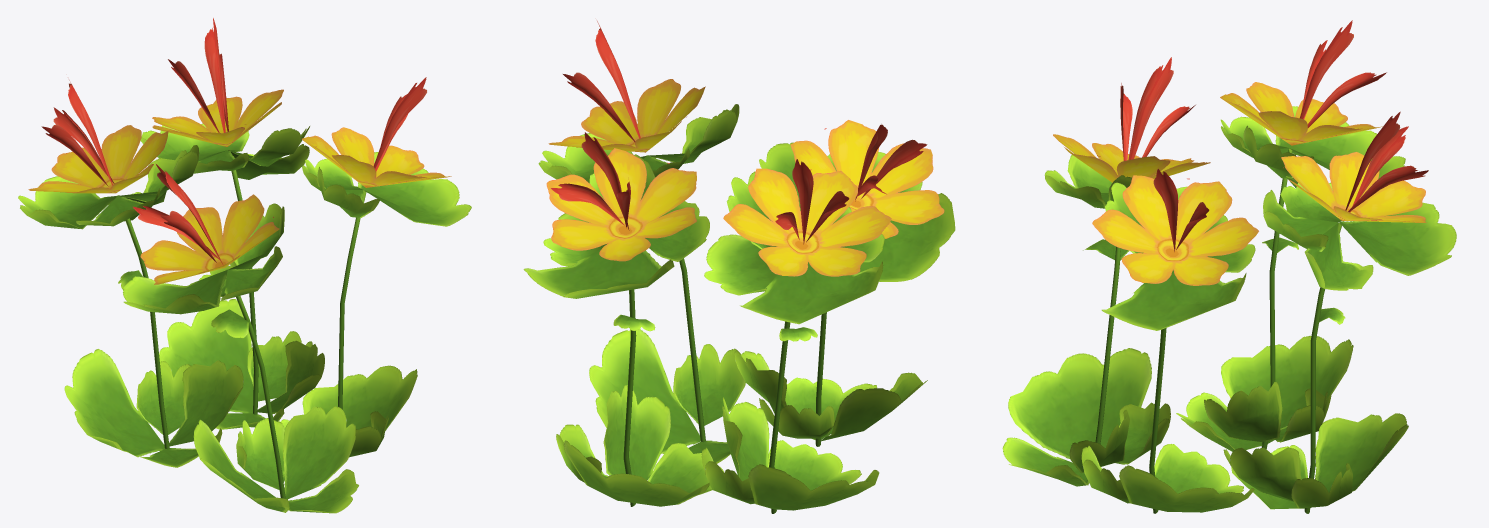
Rendered from nature_flower_7_group.glb.
3 renders of one model, left to right at view 1: azimuth 30°, elevation 25°; view 2: azimuth 150°, elevation 25°; view 3: azimuth 270°, elevation 25°, orthographic. The views are drawn at different scales.
Parts seen in each view (by area): view 1: nature_flower_7_group; view 2: nature_flower_7_group; view 3: nature_flower_7_group.
Part boxes in pixels (left/top/right/bottom): nature_flower_7_group: left=18, top=18, right=471, bottom=513; nature_flower_7_group: left=523, top=21, right=955, bottom=513; nature_flower_7_group: left=1002, top=20, right=1456, bottom=513.
Size of the model in its own units: 184 by 171 by 184.
Materials: 2 (2 with a texture image).
